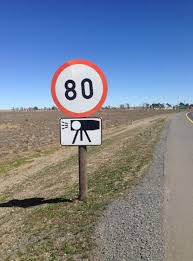Speed_limit_80km: (51, 59, 107, 117)
